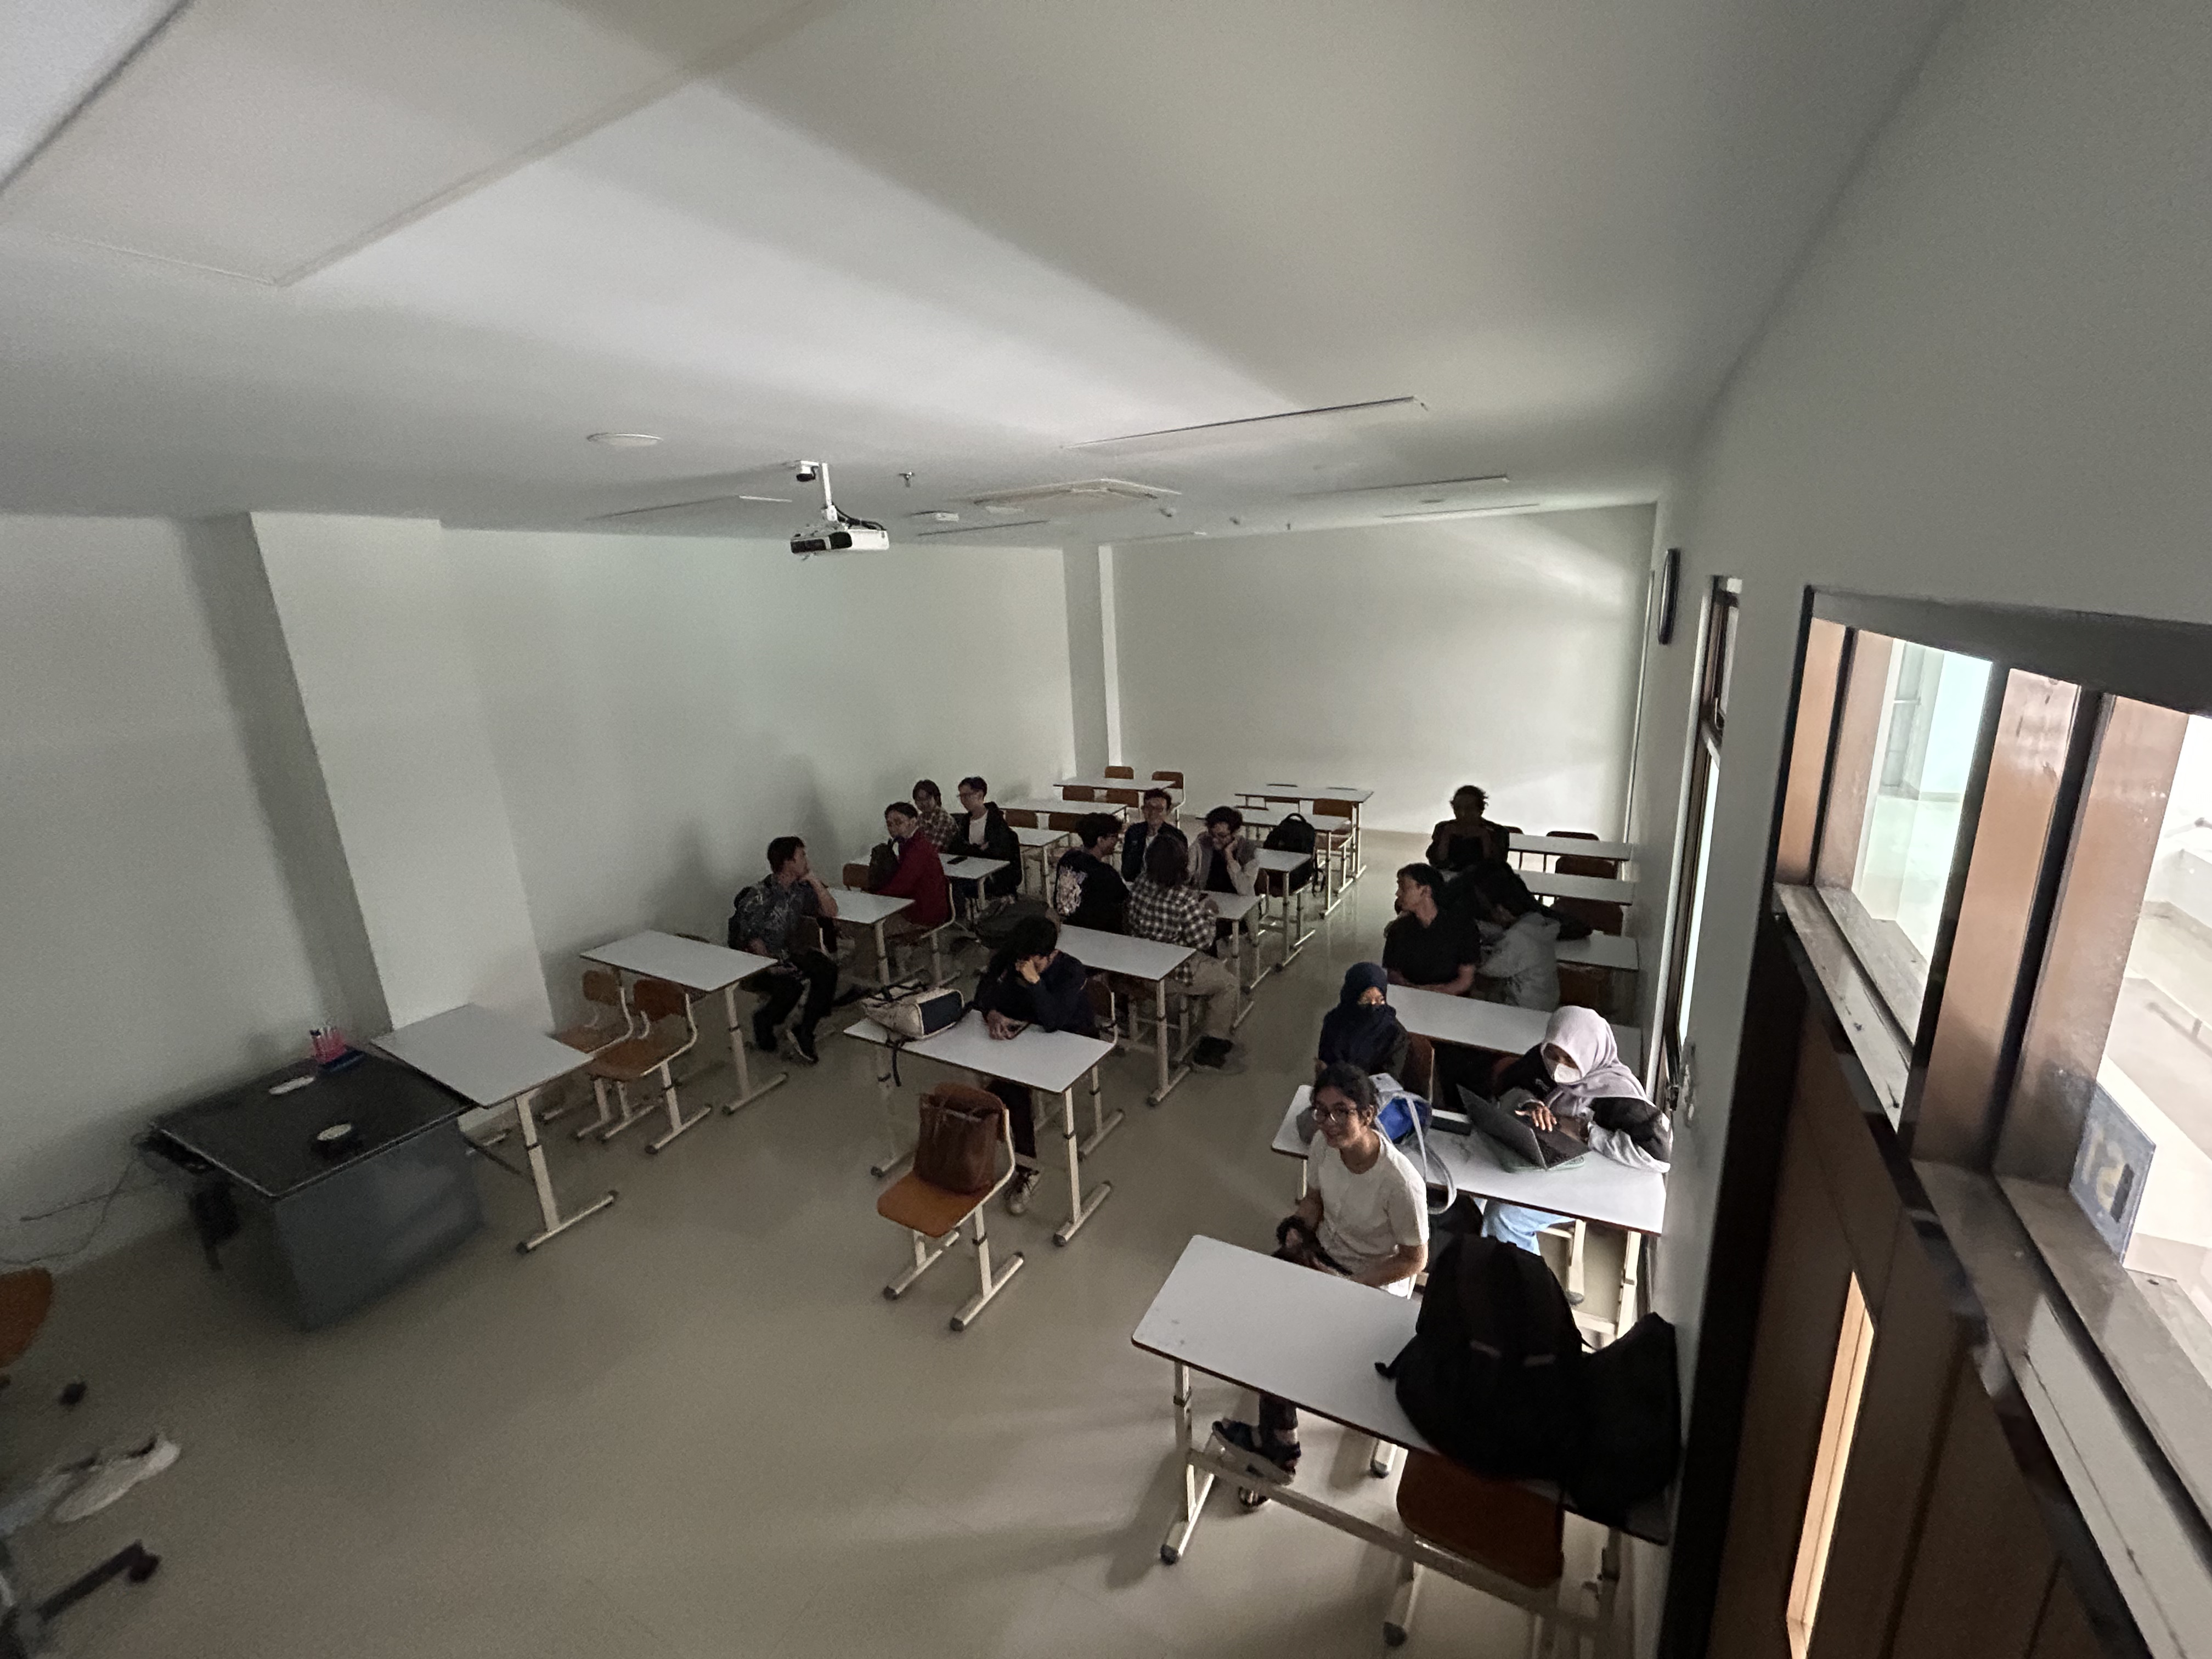person: (1311, 1066, 1379, 1147), (1007, 916, 1056, 980), (1483, 877, 1531, 930), (1344, 962, 1388, 1019), (1539, 1034, 1587, 1086), (1076, 811, 1124, 860), (1395, 863, 1443, 913), (1142, 835, 1186, 887), (765, 835, 808, 883), (1204, 805, 1244, 850), (1449, 785, 1486, 830), (883, 802, 918, 843), (955, 776, 988, 814), (1141, 787, 1171, 828), (911, 777, 941, 814)
